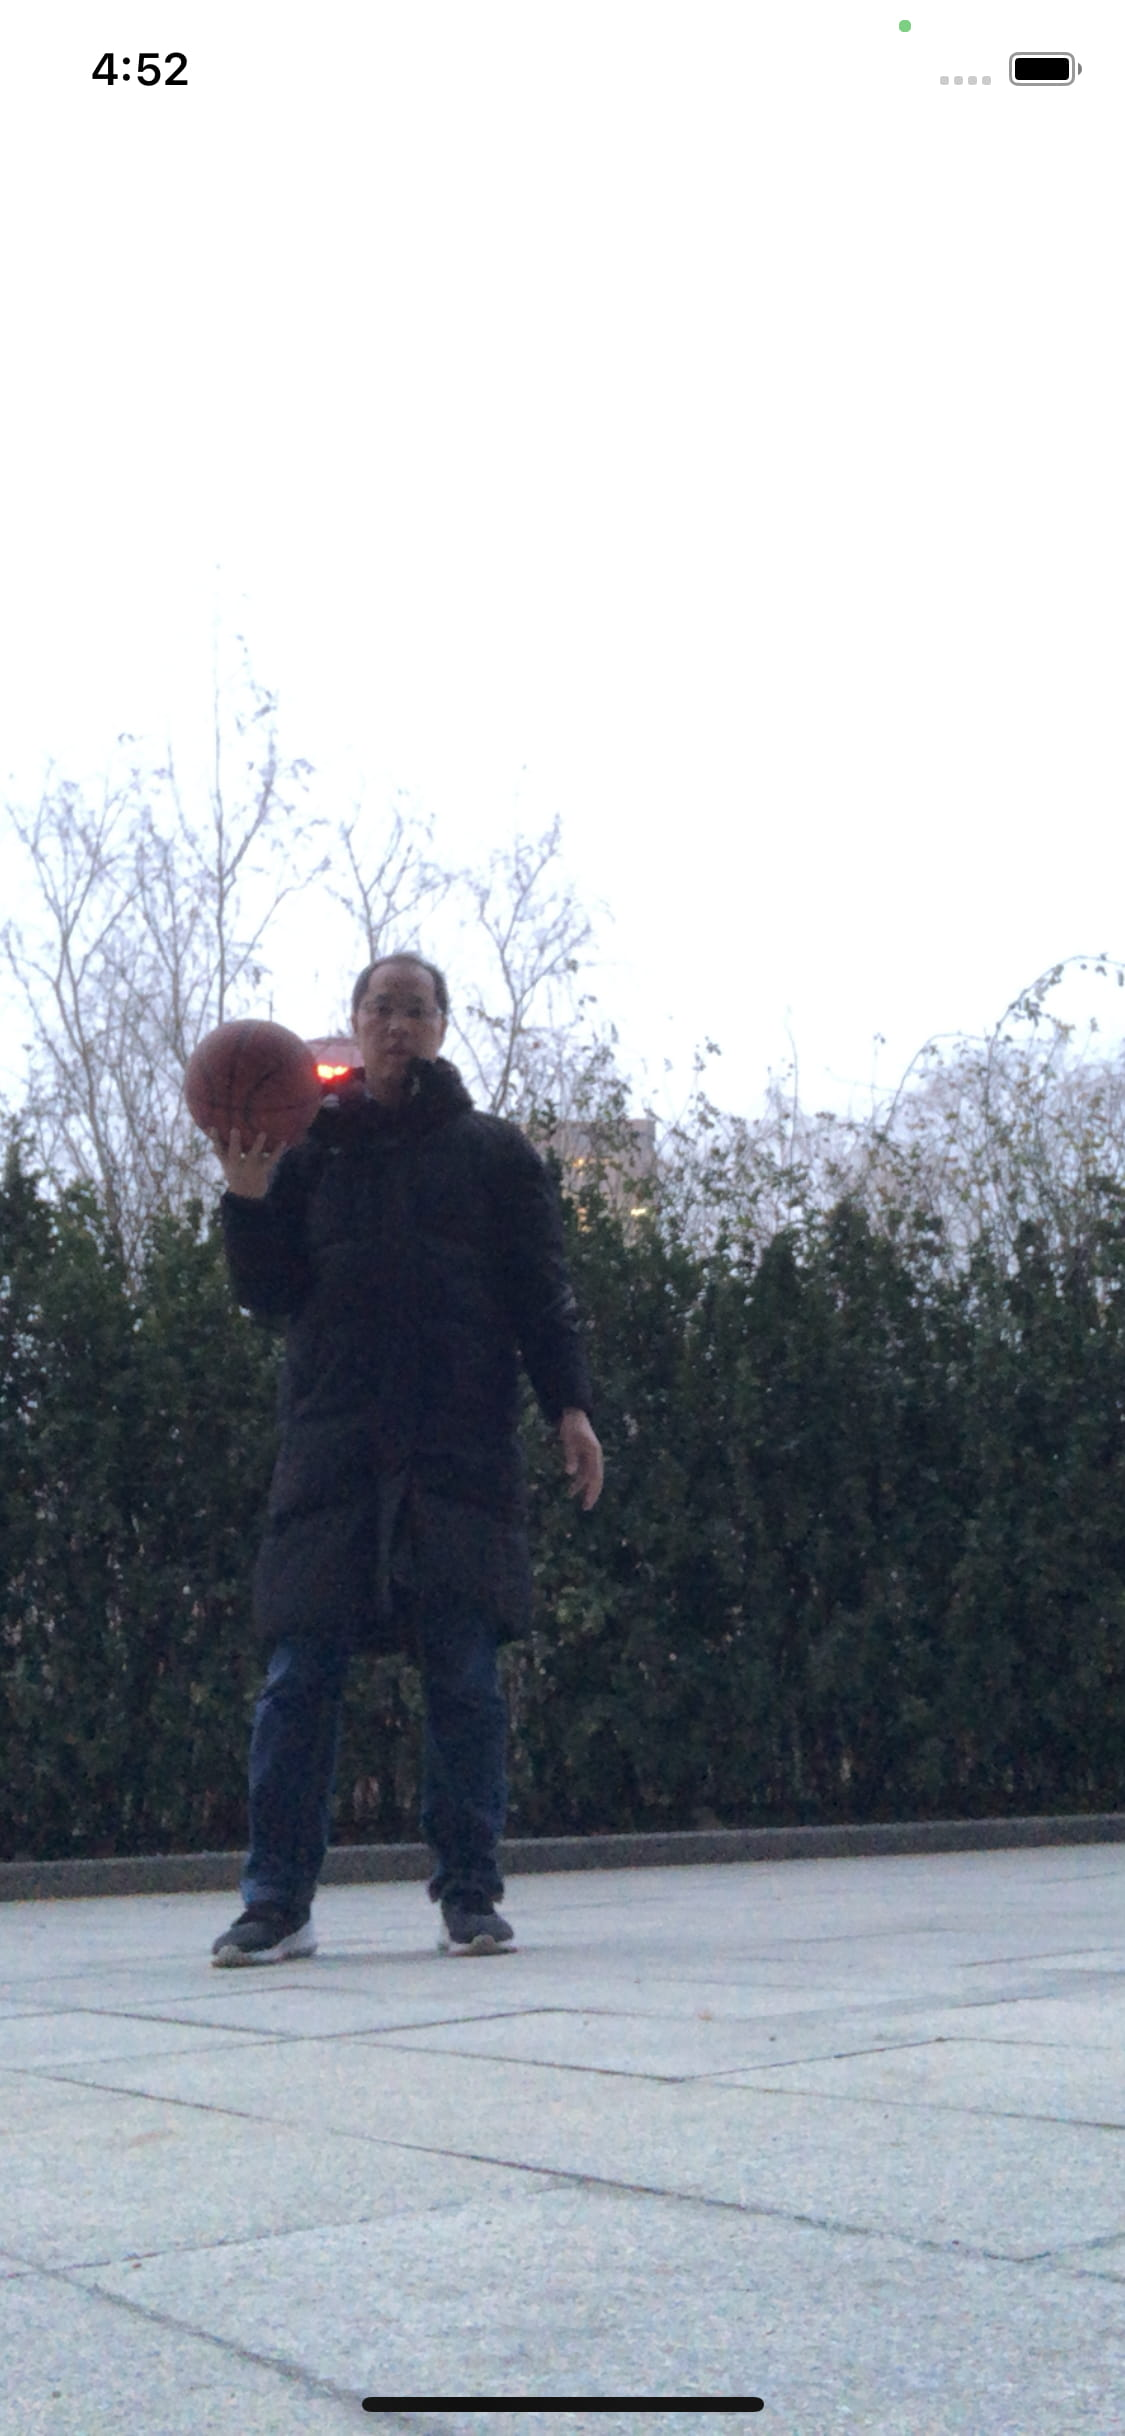ball: (183, 1014, 325, 1159)
